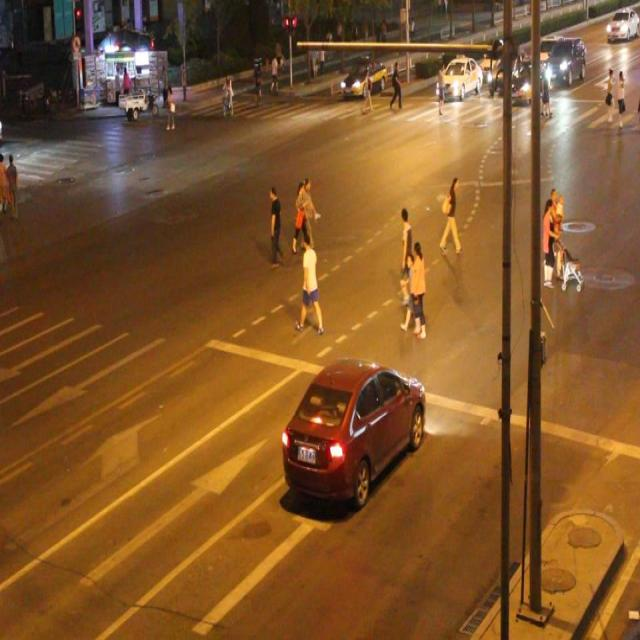car: (278, 358, 426, 504)
